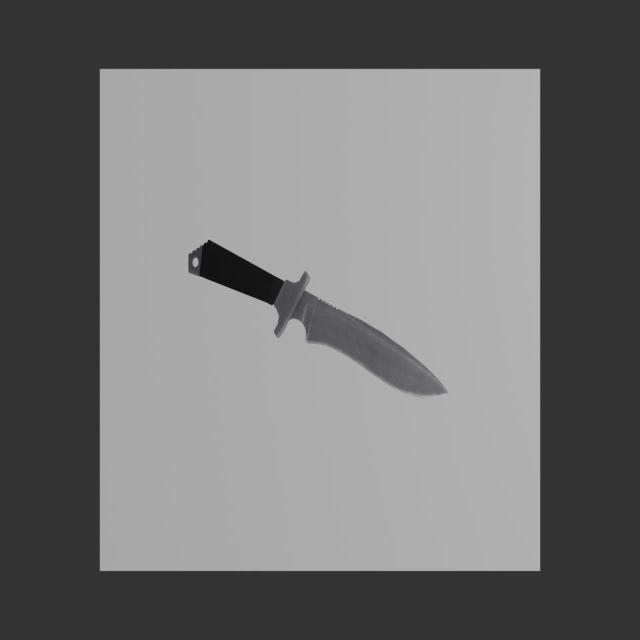knife: (188, 240, 284, 306)
